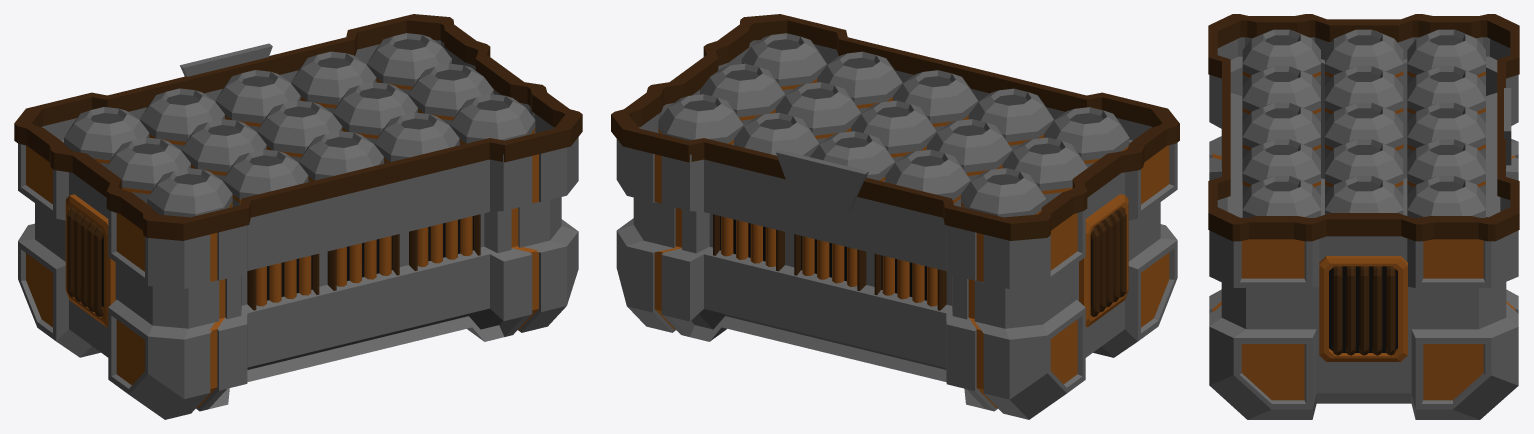
The model's file is water_chiller_400.obj.
3 renders of one model, left to right at view 1: azimuth 30°, elevation 25°; view 2: azimuth 150°, elevation 25°; view 3: azimuth 270°, elevation 25°, orthographic.
Parts seen in each view (by area): view 1: Props_ContainerFull; view 2: Props_ContainerFull; view 3: Props_ContainerFull.
Boxes of the visible parts, x1,y1,x2,y2 form: Props_ContainerFull: (14,14,582,419); Props_ContainerFull: (611,14,1179,419); Props_ContainerFull: (1208,14,1519,419).
Size of the model in its own units: 1.2 by 0.5824 by 0.7517.
